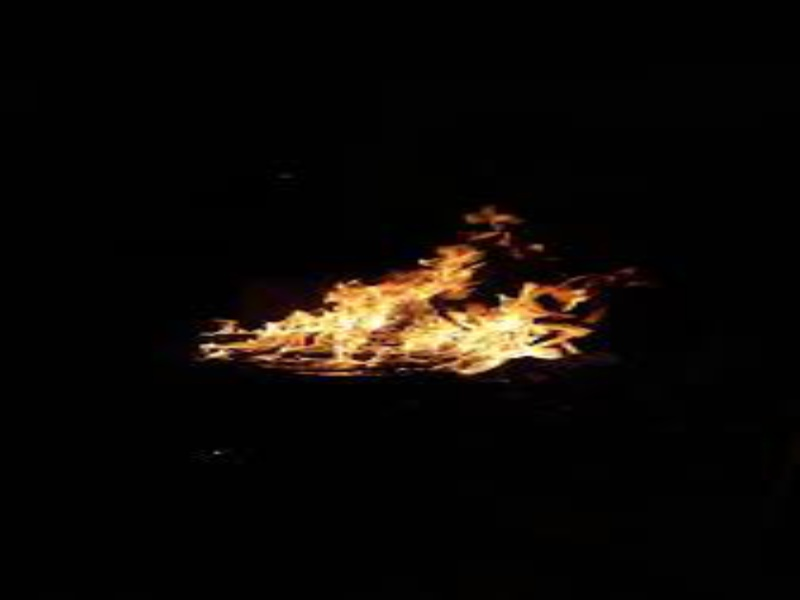fire: (199, 206, 609, 371)
